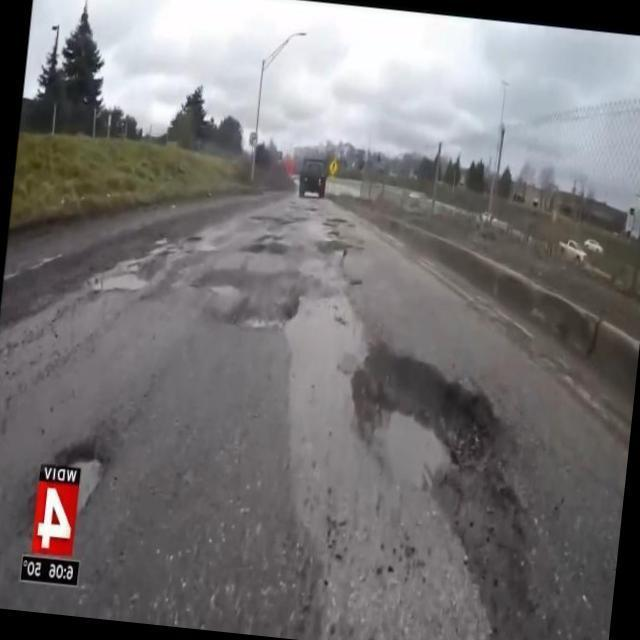Pothole: (355, 361, 476, 483), (93, 263, 151, 291), (219, 302, 289, 325)
